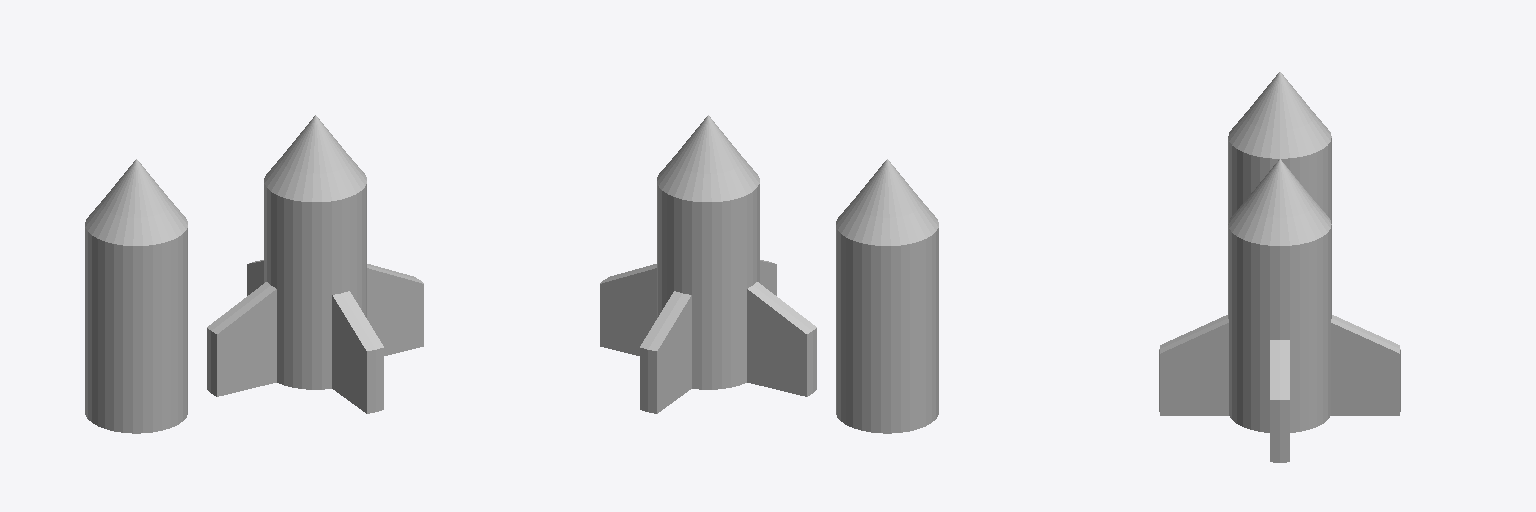
The model's file is Player_Ship_Default.obj.
The picture shows the model from 3 angles: view 1: azimuth 30°, elevation 25°; view 2: azimuth 150°, elevation 25°; view 3: azimuth 270°, elevation 25°; orthographic projection.
Parts seen in each view (by area): view 1: Cone.001, Cone; view 2: Cone.001, Cone; view 3: Cone.001, Cone.
Boxes of the visible parts, x1=… form: Cone.001: x1=207, y1=115, x2=423, y2=413; Cone: x1=85, y1=159, x2=187, y2=433; Cone.001: x1=600, y1=115, x2=816, y2=413; Cone: x1=836, y1=159, x2=938, y2=433; Cone.001: x1=1159, y1=159, x2=1400, y2=462; Cone: x1=1228, y1=72, x2=1331, y2=223.
Size of the model in its own units: 5.5 by 4.06 by 3.5.